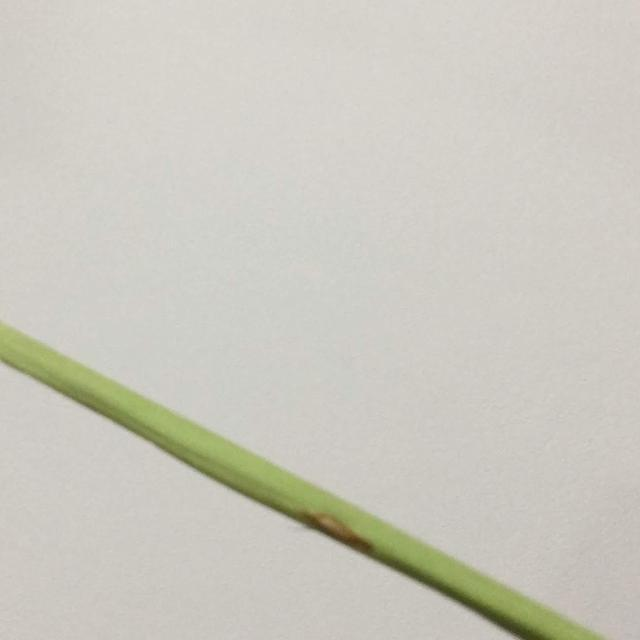Blast: (316, 513, 346, 534)
